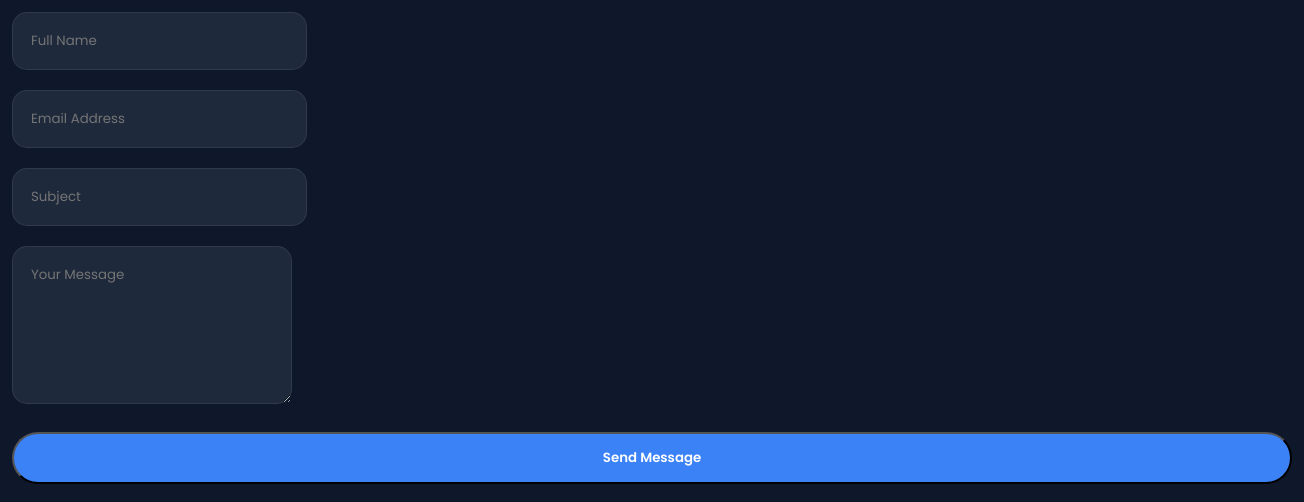
it: ContactForm › rejects a message under 20 characters
This screenshot has width=1304, height=502.
Type "Ada Lovelace" into the field with placeholder "Full Name". click: {"x": 160, "y": 41}
box: x1=12 y1=12 x2=307 y2=70
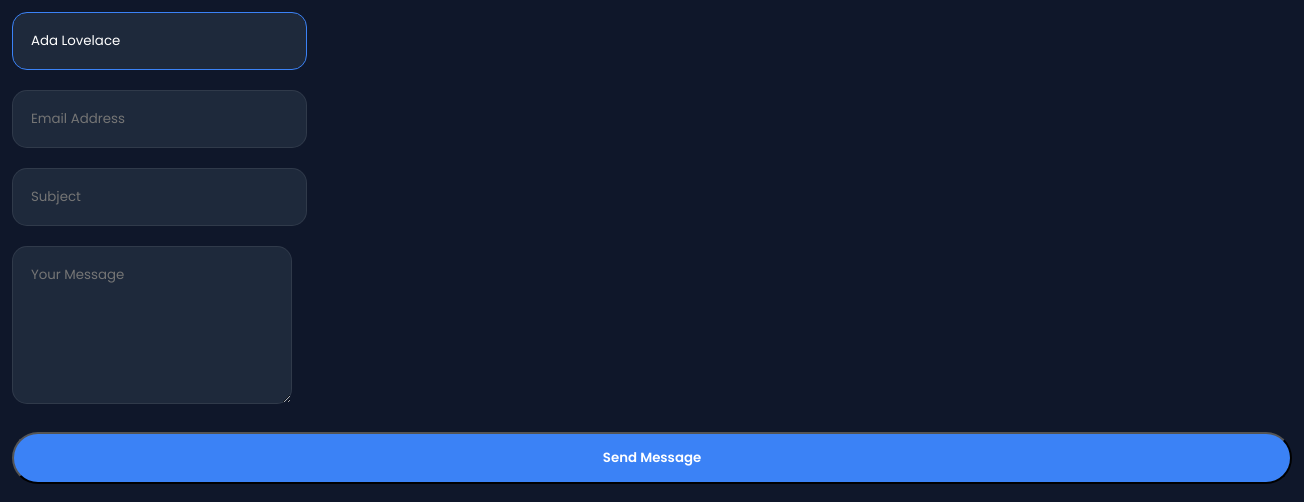
Type "ada@example.com" into the field with placeholder "Email Address". click: {"x": 160, "y": 119}
box: x1=12 y1=90 x2=307 y2=148
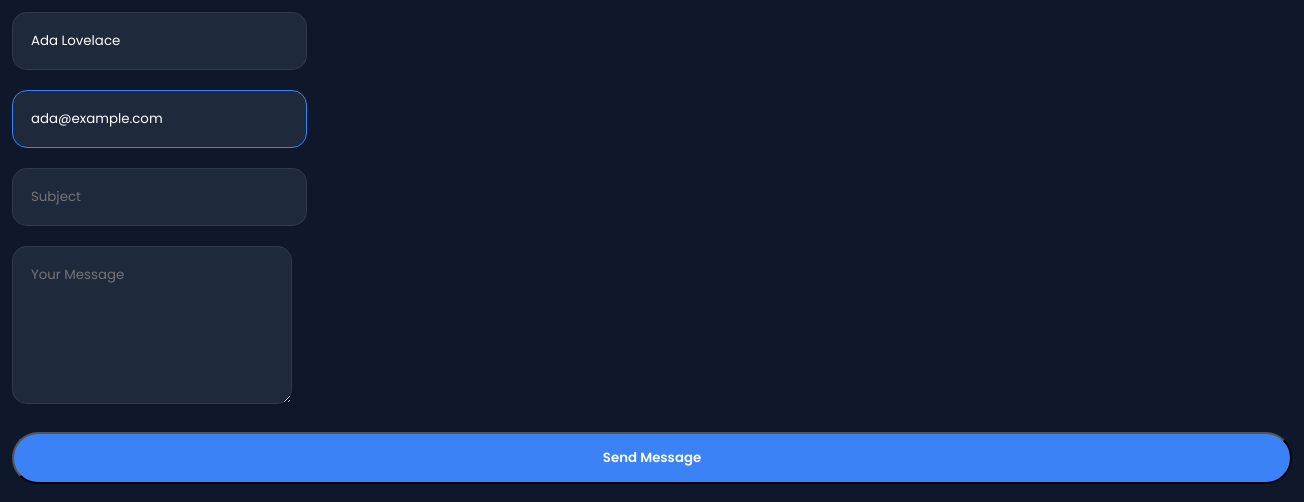
Type "too short" into the text box with placeholder "Your Message". click: {"x": 152, "y": 325}
box: x1=12 y1=246 x2=292 y2=404
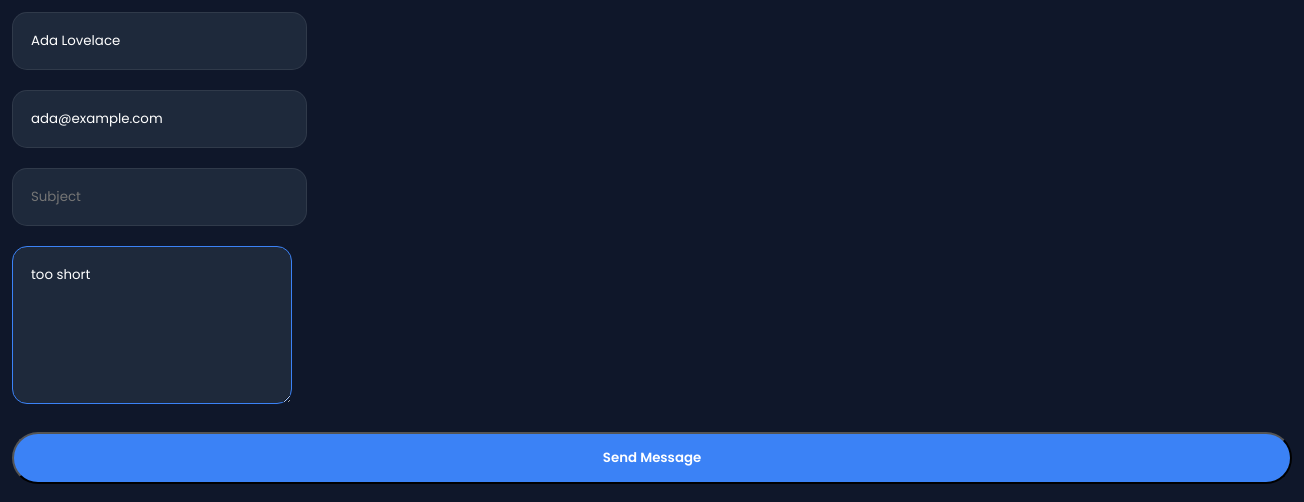
Click the button "Send Message". click: {"x": 652, "y": 458}
box: x1=12 y1=432 x2=1292 y2=484
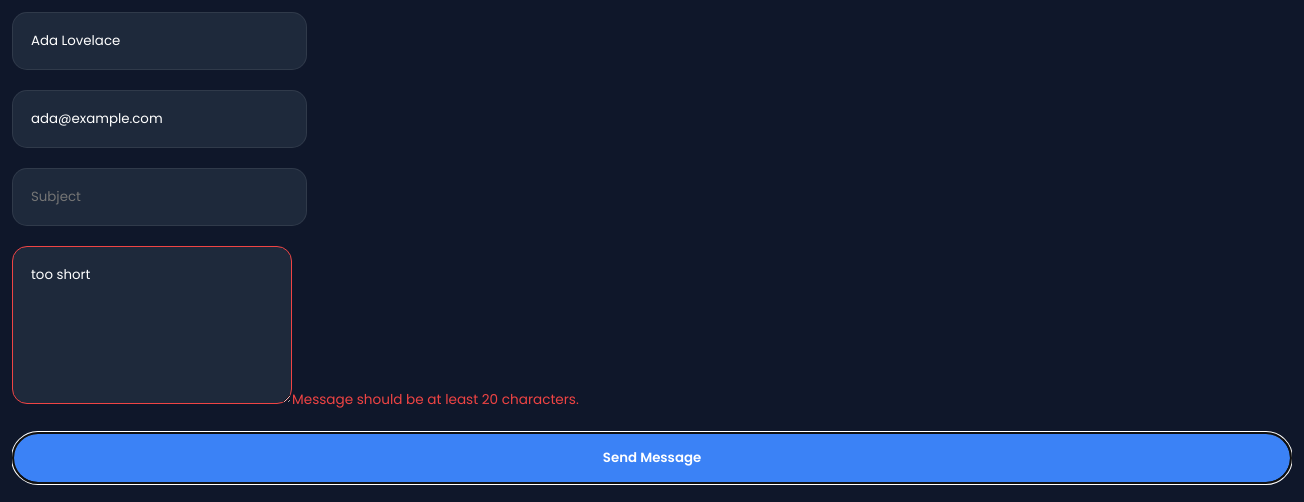
Check: the text "Message should be at least 20 characters." is shown, box x1=292 y1=390 x2=579 y2=409
